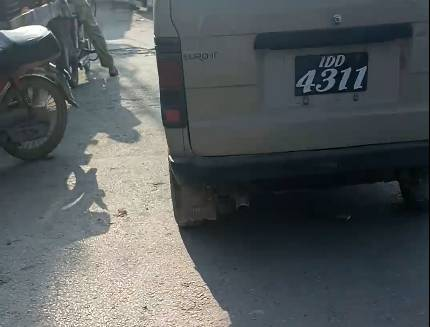number_plate: (292, 55, 372, 96)
